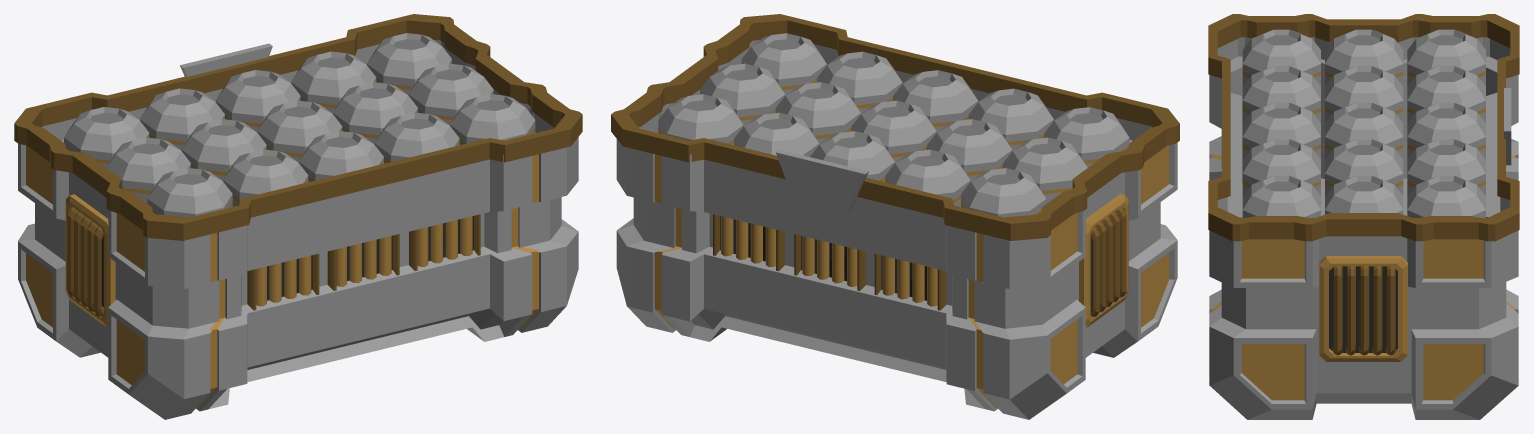
Rendered from Props_ContainerFull.glb.
The picture shows the model from 3 angles, left to right: view 1: azimuth 30°, elevation 25°; view 2: azimuth 150°, elevation 25°; view 3: azimuth 270°, elevation 25°; orthographic projection.
Visible parts, largest first — view 1: Props_ContainerFull; view 2: Props_ContainerFull; view 3: Props_ContainerFull.
Boxes of the visible parts, x1,y1,x2,y2 form: Props_ContainerFull: [14, 14, 582, 419]; Props_ContainerFull: [611, 14, 1179, 419]; Props_ContainerFull: [1208, 14, 1519, 419].
Size of the model in its own units: 1.2 by 0.5824 by 0.7517.
